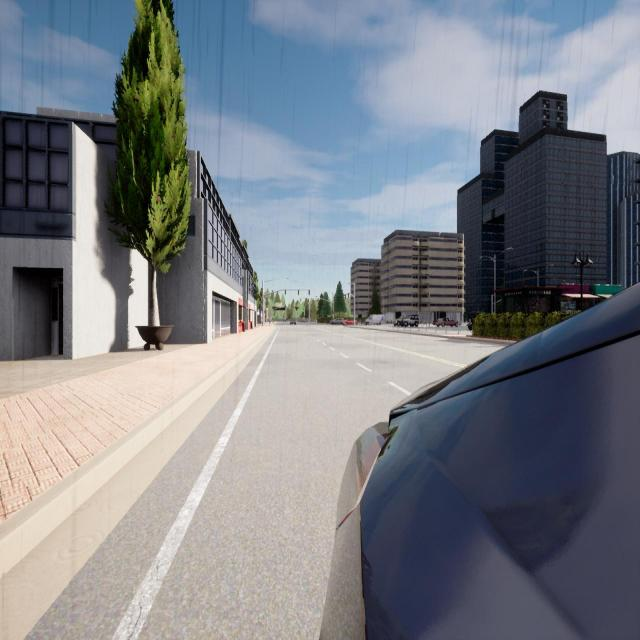Vehicle: (321, 284, 639, 638), (394, 315, 418, 327), (437, 318, 459, 327), (366, 315, 384, 325), (468, 316, 474, 331), (330, 318, 343, 324), (345, 320, 357, 325), (290, 319, 296, 325)
traffic_light: (300, 298, 302, 302), (298, 290, 299, 295), (309, 290, 310, 295), (308, 298, 309, 302), (285, 290, 286, 294), (345, 295, 346, 299), (348, 294, 349, 297), (332, 311, 333, 313), (318, 299, 318, 302)
